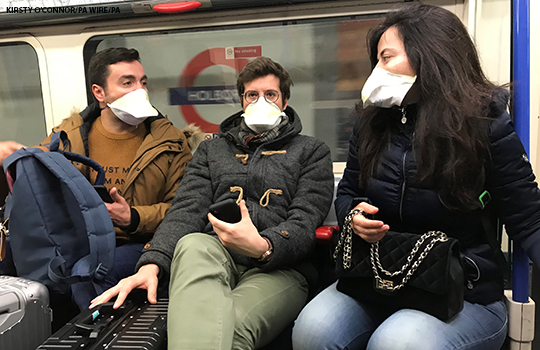with_mask: (363, 33, 419, 108), (112, 67, 154, 126), (240, 79, 284, 132)
